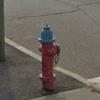Hydrant: (29, 18, 64, 96)
